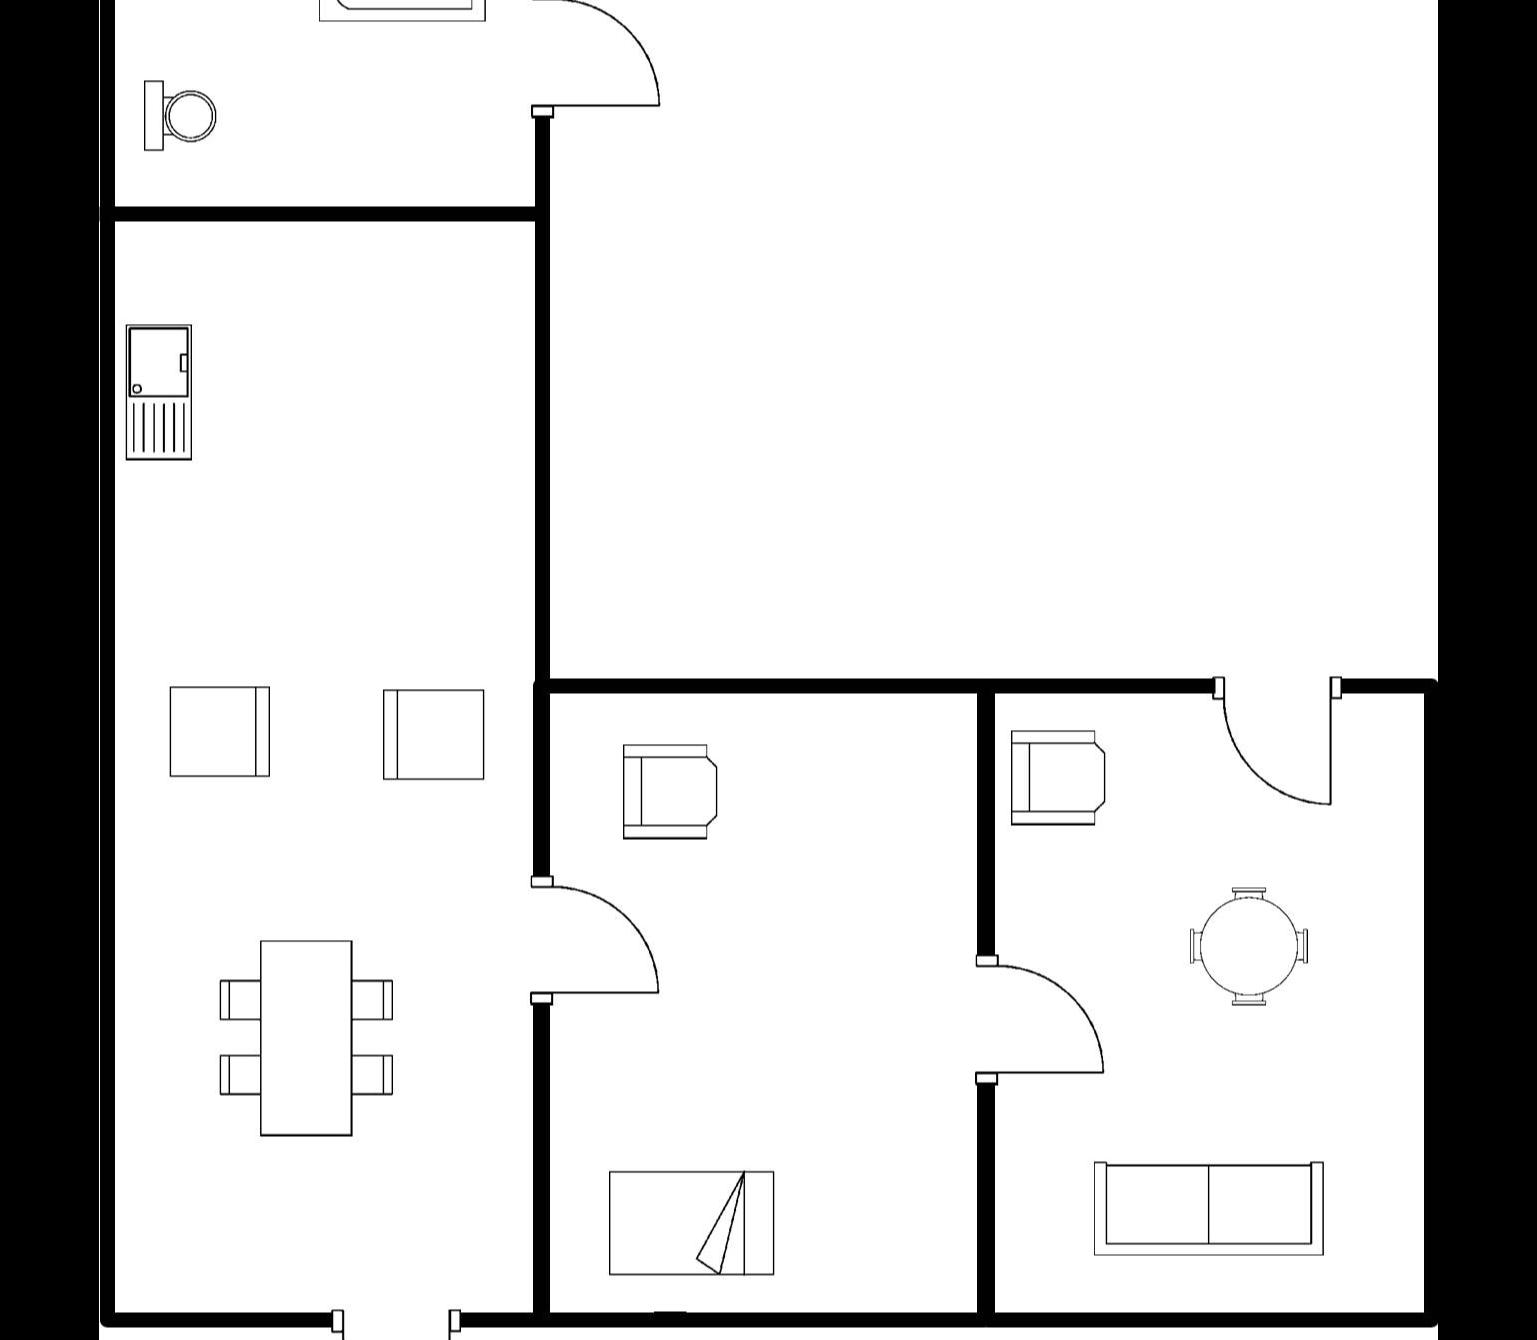bed: (597, 1162, 788, 1286)
dining_table: (212, 928, 406, 1145)
round_table: (1180, 877, 1317, 1016)
sink: (119, 315, 204, 472)
sofa: (1086, 1154, 1337, 1268)
toilet: (136, 73, 227, 161)
tub: (308, 0, 497, 34)
